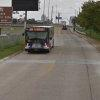Bus: (20, 23, 60, 54)
